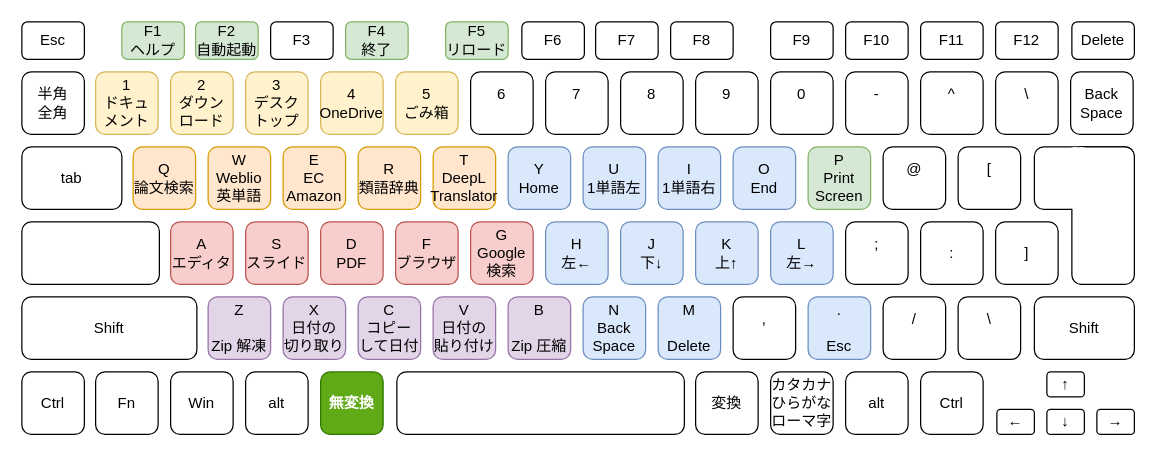
Some shapes in this 1156 by 456 pixel diagram are drawn without their labels. Each missing label, with the centre of its shape:
"CapsLock 英数" goes at (x=90, y=252).
"Enter" goes at (x=1102, y=215).
